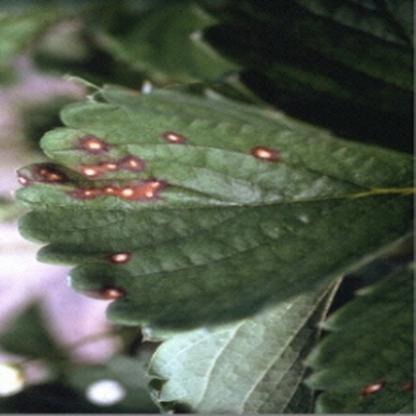Strawberry_Leaf_Spot: (12, 81, 414, 342), (300, 264, 414, 414)
